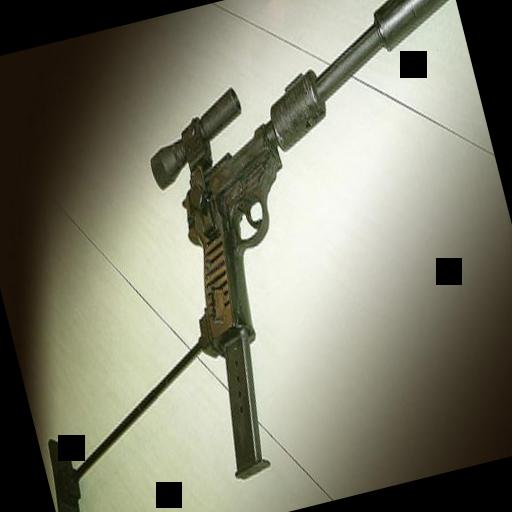Handgun: (148, 68, 374, 352)
